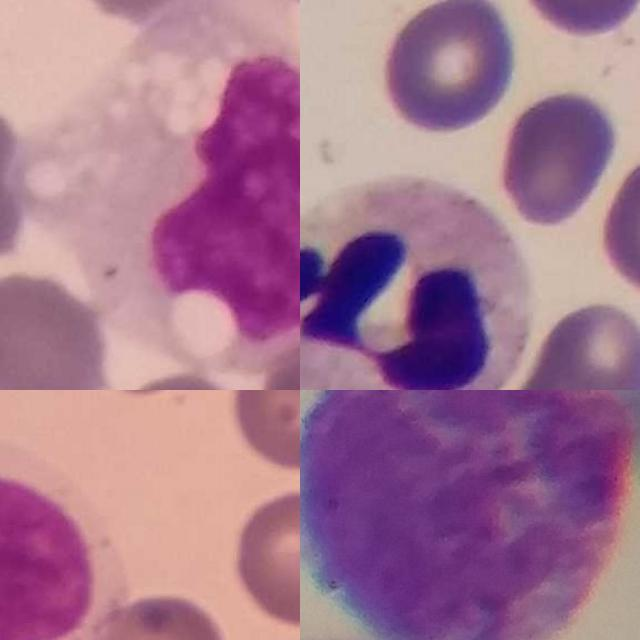Basophil: (300, 390, 633, 640)
Lymphocyte: (0, 434, 131, 640)
Monocyte: (51, 22, 300, 343)
Neutrophil: (300, 177, 528, 390)
